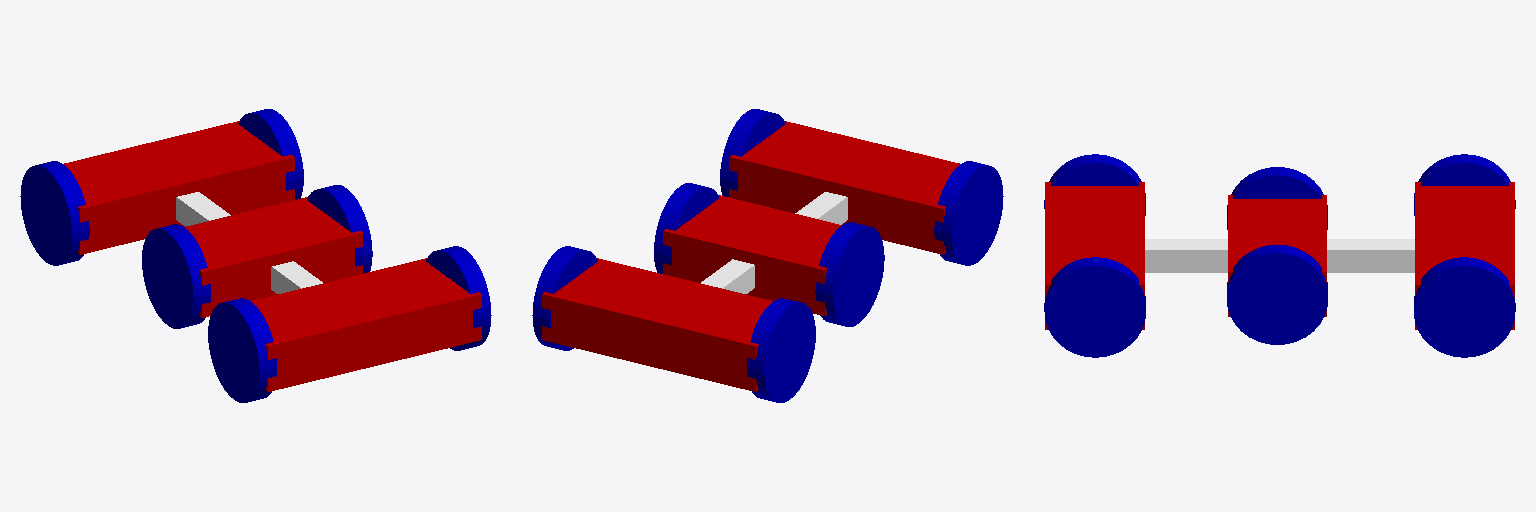
robot.urdf — wallcrawler2:
<?xml version="1.0"?>
<robot name="wallcrawler2">
    <!-- Define material (colors) -->
    <material name="blue">
        <color rgba="0 0 0.8 1"/>
    </material>

    <material name="white">
        <color rgba="1 1 1 1"/>
    </material>

    <material name="black">
        <color rgba="0.2 0.2 0.2 1"/>
    </material>

    <material name="red">
        <color rgba="0.8 0 0 1"/>
    </material>

    <!-- Define base link (Choosing center segment) -->
    <link name="base_link">
        <visual>
        <geometry>
            <box size="0.184 0.1 0.05"/>
        </geometry>
        <material name="red"/>
        </visual>
        <collision>
        <geometry>
            <box size="0.184 0.1 0.05"/>
        </geometry>
        </collision>
        <inertial>
        <mass value="0.531"/>
        <inertia ixx="5687.833" ixy="14.061" ixz="0.00" iyy="288.26" iyz="0.00" izz="5624.56"/>        
        </inertial>                
    </link>

    <!-- Wheels attached to base/central link -->
    <link name="right_wheel">
        <visual>
        <geometry>
            <cylinder length="0.02" radius="0.051"/>
        </geometry>
        <origin rpy="0 1.57 0" xyz="0 0.0 0.0"/>
        <material name="blue"/>
        </visual>
        <collision>
      <geometry>
            <cylinder length="0.02" radius="0.051"/>
        </geometry>
        <origin rpy="0 1.57 0" xyz="0 0.0 0.0"/>
        </collision>
        <inertial>
        <origin rpy="0 1.57 0" xyz="0 0.0 0.0"/>
        <mass value="0.57"/>
        <inertia ixx="1026.482" ixy="0" ixz="0" iyy="0" iyz="1933.441" izz="1026.482"/>
        </inertial>                
    </link>

    <joint name="base_to_right_wheel" type="revolute">
        <axis xyz="1 0 0" rpy="0 0 0"/>
        <limit effort="1000.0" lower="0.0" upper="0.548" velocity="0.5"/>
        <parent link="base_link"/>
        <child link="right_wheel"/>
        <origin xyz="0.092 0.0 0.0"/>
    </joint>

   
    <link name="left_wheel">
        <visual>
        <geometry>
            <cylinder length="0.02" radius="0.051"/>
        </geometry>
        <origin rpy="0 1.57 0" xyz="0 0.0 0.0"/>
        <material name="blue"/>
        </visual>
        <collision>
        <geometry>
            <cylinder length="0.02" radius="0.051"/>
        </geometry>
        <origin rpy="0 1.57 0" xyz="0 0.0 0.0"/>
        </collision> 
        <inertial>
        <origin rpy="0 1.57 0" xyz="0 0.0 0.0"/>
        <mass value="0.57"/>
        <inertia ixx="1026.482" ixy="0" ixz="0" iyy="0" iyz="1933.441" izz="1026.482"/>
        </inertial>                
    </link>

    <joint name="base_to_left_wheel" type="revolute">
        <axis xyz="1 0 0"/>
        <limit effort="1000.0" lower="0.0" upper="0.548" velocity="0.5"/>
        <parent link="base_link"/>
        <child link="left_wheel"/>
        <origin xyz="-0.092 0.0 0.0"/>
    </joint>

    <!-- linkage to segment at the front -->

    <link name="base_to_front_link1">
        <visual>
        <geometry>
            <box size="0.0254 0.0254 0.055"/>
        </geometry>
        <material name="white"/>
        <origin rpy="1.57 0 0" xyz="0 0.01875 0"/>
        </visual>
        <collision>
        <geometry>
            <box size="0.0254 0.0254 0.055"/>
        </geometry>
        <origin rpy="1.57 0 0" xyz="0 0.01875 0"/>
        </collision>
        <inertial>
        <origin rpy="1.57 0 0" xyz="0 0.01875 0"/>
        <mass value="0.054"/>
        <inertia ixx="77.34" ixy="0.00" ixz="0.00" iyy="77.34" iyz="0.00" izz="14.06"/>
        </inertial>
        
    </link>

    <joint name="b2flink1_to_baselink" type="revolute">
        <axis xyz="0 1 0"/>
        <limit effort="1000.0" lower="0.0" upper="0.548" velocity="0.5"/>
        <parent link="base_link"/>
        <child link="base_to_front_link1"/>
        <origin xyz="0 0.05 0"/>
    </joint>


    <link name="front_link2">
        <visual>
        <geometry>
            <box size="0.0254 0.0254 0.055"/>
        </geometry>
        <material name="white"/>
        <origin rpy="1.57 0 0" xyz="0 0.0 0"/>
        </visual>
        <collision>
       <geometry>
            <box size="0.0254 0.0254 0.055"/>
        </geometry>
        <origin rpy="1.57 0 0" xyz="0 0.0 0"/>
        </collision>
        <inertial>
        <origin rpy="1.57 0 0" xyz="0 0.0 0"/>
        <mass value="0.054"/>
        <inertia ixx="77.34" ixy="0.00" ixz="0.00" iyy="77.34" iyz="0.00" izz="14.06"/>
        </inertial>          
    </link>

    <joint name="b2flink1_to_link2" type="revolute">
        <axis xyz="1 0 0"/>
        <limit effort="1000.0" lower="0.0" upper="0.548" velocity="0.5"/>
        <parent link="base_to_front_link1"/>
        <child link="front_link2"/>
        <origin xyz="0 0.06 0"/>
    </joint>

        <!-- torsional spring element -->
    <gazebo>
        <plugin name="front_torsional_spring" filename="libgazebo_joint_torsional_spring.so">
            <kx>0.1</kx>
            <set_point>0.5</set_point>
            <joint>b2flink1_to_link2</joint>
        </plugin>
    </gazebo>

        <!-- linkage to segment at the back -->

    <link name="base_to_back_link1">
        <visual>
        <geometry>
            <box size="0.0254 0.0254 0.055"/>
        </geometry>
        <material name="white"/>
        <origin rpy="1.57 0 0" xyz="0 -0.01875 0"/>
        </visual>
        <collision>
        <geometry>
            <box size="0.0254 0.0254 0.055"/>
        </geometry>
        <origin rpy="1.57 0 0" xyz="0 -0.01875 0"/>
        </collision> 
        <inertial>
        <origin rpy="1.57 0 0" xyz="0 -0.01875 0"/>
        <mass value="0.054"/>
        <inertia ixx="77.34" ixy="0.00" ixz="0.00" iyy="77.34" iyz="0.00" izz="14.06"/>
        </inertial>        
    </link>

    <joint name="b2blink1_to_baselink" type="revolute">
        <axis xyz="0 1 0"/>
        <limit effort="1000.0" lower="0.0" upper="0.548" velocity="0.5"/>
        <parent link="base_link"/>
        <child link="base_to_back_link1"/>
        <origin xyz="0 -0.05 0"/>
    </joint>


    <link name="back_link2">
        <visual>
        <geometry>
            <box size="0.0254 0.0254 0.055"/>
        </geometry>
        <material name="white"/>
        <origin rpy="1.57 0 0" xyz="0 0.0 0"/>
        </visual>
        <collision>
        <geometry>
            <box size="0.0254 0.0254 0.055"/>
        </geometry>
        <origin rpy="1.57 0 0" xyz="0 0.0 0"/>
        </collision>
        <inertial>
         <origin rpy="1.57 0 0" xyz="0 0.0 0"/>
        <mass value="0.054"/>
        <inertia ixx="77.34" ixy="0.00" ixz="0.00" iyy="77.34" iyz="0.00" izz="14.06"/>
        </inertial>         
    </link>

    <joint name="b2blink1_to_link2" type="revolute">
        <axis xyz="1 0 0"/>
        <limit effort="1000.0" lower="0.0" upper="0.548" velocity="0.5"/>
        <parent link="base_to_back_link1"/>
        <child link="back_link2"/>
        <origin xyz="0 -0.055 0"/>
    </joint>

        <!-- torsional spring element -->
    <gazebo>
        <plugin name="back_torsional_spring" filename="libgazebo_joint_torsional_spring.so">
            <kx>0.1</kx>
            <set_point>0.5</set_point>
            <joint>b2blink1_to_link2</joint>
        </plugin>
    </gazebo>

    <!-- Front segment -->
    <link name="front_segment">
        <visual>
        <geometry>
            <box size="0.244 0.1 0.05"/>
        </geometry>
        <material name="red"/>
        <origin xyz="0 0.05 0"/>
        </visual>
        <collision>
        <geometry>
            <box size="0.244 0.1 0.05"/>
        </geometry>
        <origin xyz="0 0.05 0"/>
        </collision> 
        <inertial>
        <origin xyz="0 0.05 0"/>
        <mass value="0.30"/>
        <inertia ixx="3564.563" ixy="0.00" ixz="0.00" iyy="977.27" iyz="0.00" izz="2671.66"/>
        </inertial>       
    </link>

    <joint name="link2_to_front_segment" type="revolute">
        <axis xyz="1 0 0"/>
        <limit effort="1000.0" lower="0.0" upper="0.548" velocity="0.5"/>
        <parent link="front_link2"/>
        <child link="front_segment"/>
        <origin xyz="0 0.0275 0"/>
    </joint>

<!-- Wheels attached to front segment -->
    <link name="right_wheel_front">
        <visual>
        <geometry>
            <cylinder length="0.02" radius="0.051"/>
        </geometry>
        <origin rpy="0 1.57 0" xyz="0 0.0 0.0"/>
        <material name="blue"/>
        </visual>
        <collision>
        <geometry>
            <cylinder length="0.02" radius="0.051"/>
        </geometry>
        <origin rpy="0 1.57 0" xyz="0 0.0 0.0"/>
        </collision>
        <inertial>
        <origin rpy="0 1.57 0" xyz="0 0.0 0.0"/>
        <mass value="0.57"/>
        <inertia ixx="1026.482" ixy="0" ixz="0" iyy="0" iyz="1933.441" izz="1026.482"/>
        </inertial>       
    </link>

    <joint name="front_to_right_wheel" type="revolute">
        <axis xyz="1 0 0"/>
        <limit effort="1000.0" lower="0.0" upper="0.548" velocity="0.5"/>
        <parent link="front_segment"/>
        <child link="right_wheel_front"/>
        <origin xyz="0.122 0.05 0.0"/>
    </joint>

   
    <link name="left_wheel_front">
        <visual>
        <geometry>
            <cylinder length="0.02" radius="0.051"/>
        </geometry>
        <origin rpy="0 1.57 0" xyz="0 0.0 0.0"/>
        <material name="blue"/>
        </visual>
        <collision>
        <geometry>
            <cylinder length="0.02" radius="0.051"/>
        </geometry>
        <origin rpy="0 1.57 0" xyz="0 0.0 0.0"/>
        </collision> 
        <inertial>
        <origin rpy="0 1.57 0" xyz="0 0.0 0.0"/>
        <mass value="0.57"/>
        <inertia ixx="1026.482" ixy="0" ixz="0" iyy="0" iyz="1933.441" izz="1026.482"/>
        </inertial>       
    </link>

    <joint name="front_to_left_wheel" type="revolute">
        <axis xyz="1 0 0"/>
        <limit effort="1000.0" lower="0.0" upper="0.548" velocity="0.5"/>
        <parent link="front_segment"/>
        <child link="left_wheel_front"/>
        <origin xyz="-0.122 0.05 0.0"/>
    </joint>

    <!-- Back segment -->
    <link name="back_segment">
        <visual>
        <geometry>
            <box size="0.244 0.1 0.05"/>
        </geometry>
        <material name="red"/>
        <origin xyz="0 -0.05 0"/>
        </visual>
        <collision>
        <geometry>
            <box size="0.244 0.1 0.05"/>
        </geometry>
        <origin xyz="0 -0.05 0"/>
        </collision>
        <inertial>
        <origin xyz="0 -0.05 0"/>
        <mass value="0.30"/>
        <inertia ixx="3564.563" ixy="0.00" ixz="0.00" iyy="977.27" iyz="0.00" izz="2671.66"/>
        </inertial>        
    </link>

    <joint name="link2_to_back_segment" type="revolute">
        <axis xyz="1 0 0"/>
        <limit effort="1000.0" lower="0.0" upper="0.548" velocity="0.5"/>
        <parent link="back_link2"/>
        <child link="back_segment"/>
        <origin xyz="0 -0.0275 0"/>
    </joint>

<!-- Wheels attached to Back segment -->
    <link name="right_wheel_back">
        <visual>
        <geometry>
            <cylinder length="0.02" radius="0.051"/>
        </geometry>
        <origin rpy="0 1.57 0" xyz="0 0.0 0.0"/>
        <material name="blue"/>
        </visual>
        <collision>
        <geometry>
            <cylinder length="0.02" radius="0.051"/>
        </geometry>
        <origin rpy="0 1.57 0" xyz="0 0.0 0.0"/>
        </collision> 
        <inertial>
        <origin rpy="0 1.57 0" xyz="0 0.0 0.0"/>
        <mass value="0.57"/>
        <inertia ixx="1026.482" ixy="0" ixz="0" iyy="0" iyz="1933.441" izz="1026.482"/>
        </inertial>        
    </link>

    <joint name="back_to_right_wheel" type="revolute">
        <axis xyz="1 0 0"/>
        <limit effort="1000.0" lower="0.0" upper="0.548" velocity="0.5"/>
        <parent link="back_segment"/>
        <child link="right_wheel_back"/>
        <origin xyz="0.122 -0.05 0.0"/>
    </joint>

   
    <link name="left_wheel_back">
        <visual>
        <geometry>
            <cylinder length="0.02" radius="0.051"/>
        </geometry>
        <origin rpy="0 1.57 0" xyz="0 0.0 0.0"/>
        <material name="blue"/>
        </visual>
        <collision>
        <geometry>
            <cylinder length="0.02" radius="0.051"/>
        </geometry>
        <origin rpy="0 1.57 0" xyz="0 0.0 0.0"/>
        </collision>
        <inertial>
        <origin rpy="0 1.57 0" xyz="0 0.0 0.0"/>
        <mass value="0.57"/>
        <inertia ixx="1026.482" ixy="0" ixz="0" iyy="0" iyz="1933.441" izz="1026.482"/>
        </inertial>         
    </link>

    <joint name="back_to_left_wheel" type="revolute">
        <axis xyz="1 0 0"/>
        <limit effort="1000.0" lower="0.0" upper="0.548" velocity="0.5"/>
        <parent link="back_segment"/>
        <child link="left_wheel_back"/>
        <origin xyz="-0.122 -0.05 0.0"/>
    </joint>

    <!-- Transmissions - for all not-fixed joints-->
        <!-- linkages-4 -->
            <!-- base to back link, back link, base to front link, front link : revolute joints-->
       

        <!-- Wheels-6 -->

    <!-- <transmission name="${prefix}_${suffix}_wheel_trans">
      <type>transmission_interface/SimpleTransmission</type>
      <actuator name="${prefix}_${suffix}_wheel_motor">
        <mechanicalReduction>1</mechanicalReduction>
      </actuator>
      <joint name="${prefix}_${suffix}_wheel_joint">
        <hardwareInterface>VelocityJointInterface</hardwareInterface>
      </joint>
    </transmission>

    <gazebo reference="${prefix}_${suffix}_wheel">
      <mu1 value="200.0"/>
      <mu2 value="100.0"/>
      <kp value="10000000.0" />
      <kd value="1.0" />
      <material>Gazebo/Grey</material>
    </gazebo> -->

    <!-- Gazebo Plugin for ROS Control -->
    <gazebo>
        <plugin name="gazebo_ros_control" filename="libgazebo_ros_control.so">
        <robotNamespace>/</robotNamespace>
        </plugin>
    </gazebo>    

</robot>

--- What the picture shows (computed from the rendered views, not written in the file) ---
3 views of the same robot in one strip: view 1: azimuth 30°, elevation 25°; view 2: azimuth 150°, elevation 25°; view 3: azimuth 270°, elevation 25° (orthographic).
Model wallcrawler2 with 13 links and 12 joints (12 revolute), rooted at base_link, posed every joint at zero.
Links seen in each view (by area): view 1: back_segment, front_segment, base_link, left_wheel_back, left_wheel, left_wheel_front, right_wheel_back, right_wheel_front, right_wheel, front_link2, base_to_back_link1; view 2: front_segment, back_segment, base_link, left_wheel_front, left_wheel_back, left_wheel, right_wheel_front, right_wheel, right_wheel_back, back_link2, base_to_front_link1; view 3: front_segment, back_segment, right_wheel_front, right_wheel_back, right_wheel, base_link, left_wheel, left_wheel_front, left_wheel_back, back_link2, front_link2, base_to_front_link1 (+1 smaller).
Boxes of the visible links, <box> form: back_segment: <box>251,258,481,391</box>; front_segment: <box>64,121,294,254</box>; base_link: <box>185,197,362,317</box>; left_wheel_back: <box>208,298,276,402</box>; left_wheel: <box>142,224,210,328</box>; left_wheel_front: <box>20,161,89,265</box>; right_wheel_back: <box>426,246,491,350</box>; right_wheel_front: <box>238,109,303,199</box>; right_wheel: <box>307,185,372,273</box>; front_link2: <box>176,192,225,226</box>; base_to_back_link1: <box>271,261,315,293</box>; front_segment: <box>542,258,772,391</box>; back_segment: <box>729,121,959,254</box>; base_link: <box>663,195,841,315</box>; left_wheel_front: <box>747,298,815,402</box>; left_wheel_back: <box>934,161,1003,265</box>; left_wheel: <box>815,222,884,326</box>; right_wheel_front: <box>532,246,597,350</box>; right_wheel: <box>654,183,718,273</box>; right_wheel_back: <box>720,109,785,196</box>; back_link2: <box>808,192,847,224</box>; base_to_front_link1: <box>717,259,754,293</box>; front_segment: <box>1415,182,1514,329</box>; back_segment: <box>1045,182,1144,329</box>; right_wheel_front: <box>1414,257,1515,357</box>; right_wheel_back: <box>1044,257,1145,357</box>; right_wheel: <box>1227,244,1327,344</box>; base_link: <box>1228,195,1326,316</box>; left_wheel: <box>1227,167,1327,229</box>; left_wheel_front: <box>1414,154,1515,215</box>; left_wheel_back: <box>1044,154,1145,215</box>; back_link2: <box>1145,239,1199,272</box>; front_link2: <box>1360,239,1414,272</box>; base_to_front_link1: <box>1327,239,1373,272</box>.
Bounding box of the posed robot: 0.2641 × 0.472 × 0.102 m (x, y, z).
Geometry: primitives only (box / cylinder / sphere), no mesh files.
